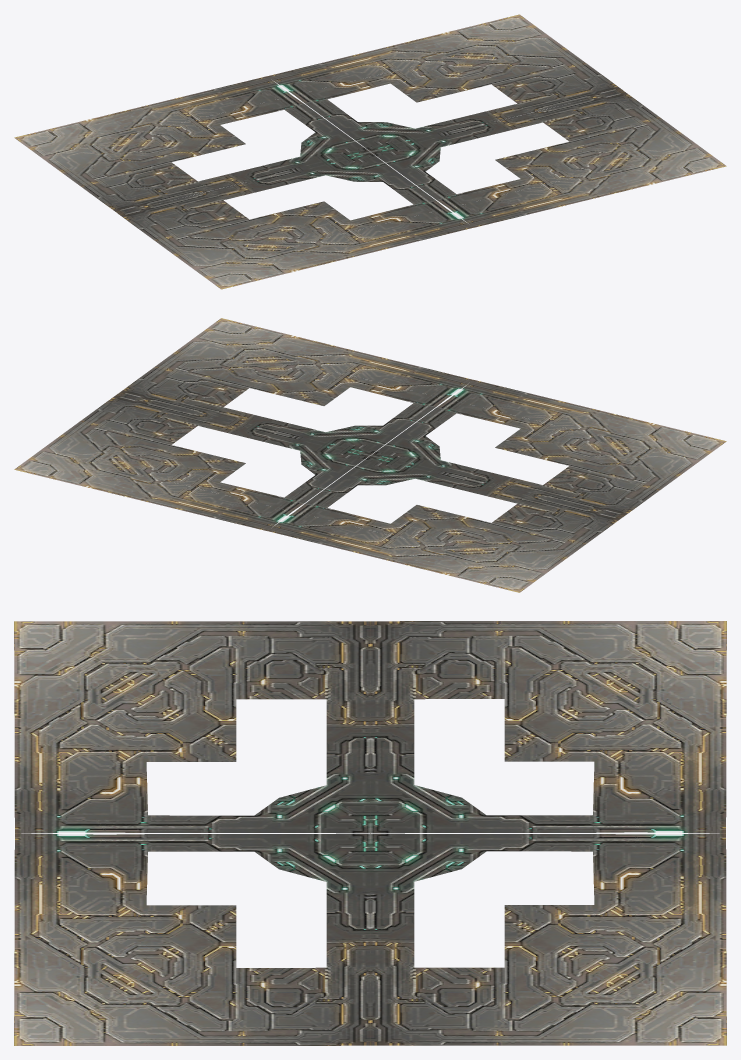
File: Arena_tile.fbx
3 renders of one model, top to bottom at view 1: azimuth 30°, elevation 25°; view 2: azimuth 150°, elevation 25°; view 3: azimuth 270°, elevation 25°, orthographic. The views are drawn at different scales.
Visible parts, largest first — view 1: Rocket_Arena, Rocket_Arena1, Rocket_Arena2, Rocket_Arena3; view 2: Rocket_Arena, Rocket_Arena1, Rocket_Arena2, Rocket_Arena3; view 3: Rocket_Arena1, Rocket_Arena3, Rocket_Arena, Rocket_Arena2.
Part boxes in pixels (x1,y1,x2,y2): Rocket_Arena: (14,76,369,213); Rocket_Arena1: (267,14,622,151); Rocket_Arena2: (371,90,726,227); Rocket_Arena3: (118,152,473,289); Rocket_Arena: (267,455,622,592); Rocket_Arena1: (14,394,369,530); Rocket_Arena2: (118,318,472,455); Rocket_Arena3: (371,380,726,516); Rocket_Arena1: (370,833,726,1045); Rocket_Arena3: (14,621,370,833); Rocket_Arena: (370,621,726,833); Rocket_Arena2: (14,833,370,1045).
Size of the model in its own units: 9.95 by 0.005 by 7.07.
Materials: 1 (1 with a texture image).
